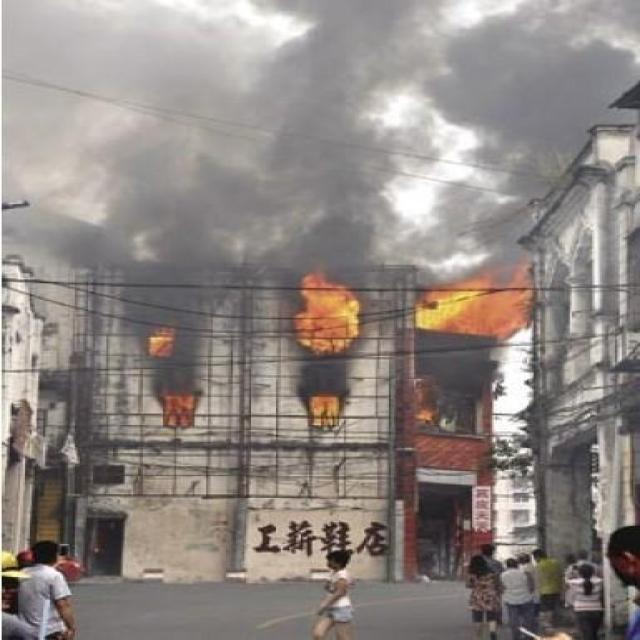Fire: (416, 262, 534, 340), (290, 272, 362, 355), (304, 394, 341, 426), (162, 394, 194, 426), (146, 334, 173, 358)
Smoke: (1, 1, 640, 295)
